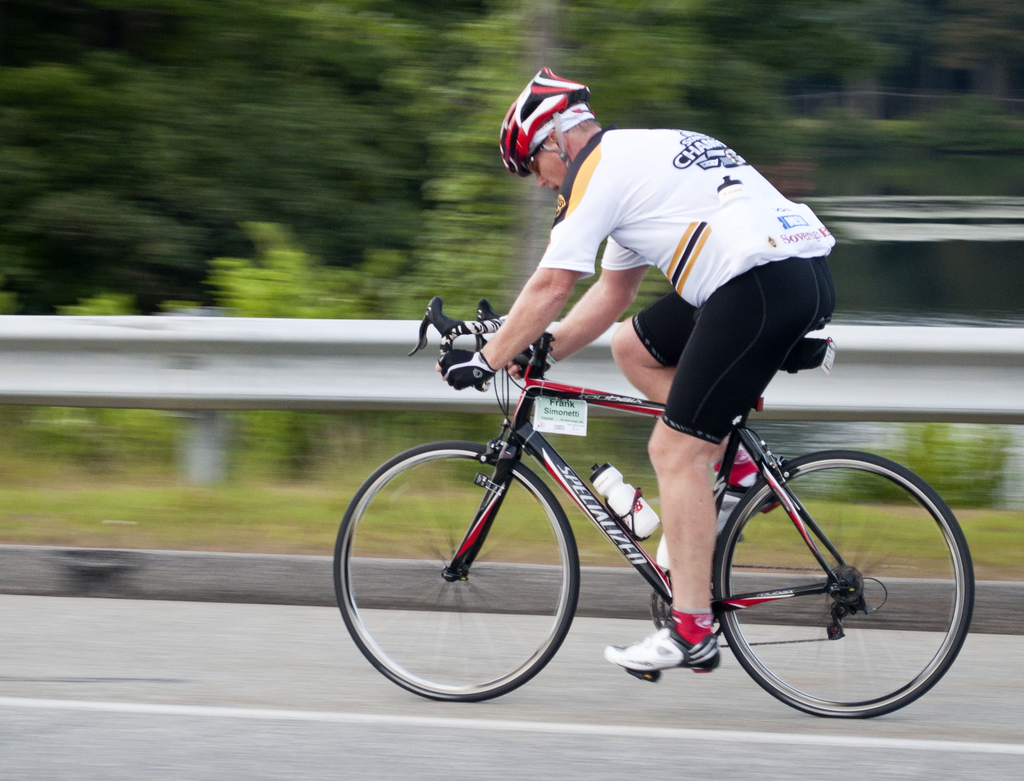Bike_away: (333, 295, 975, 708)
